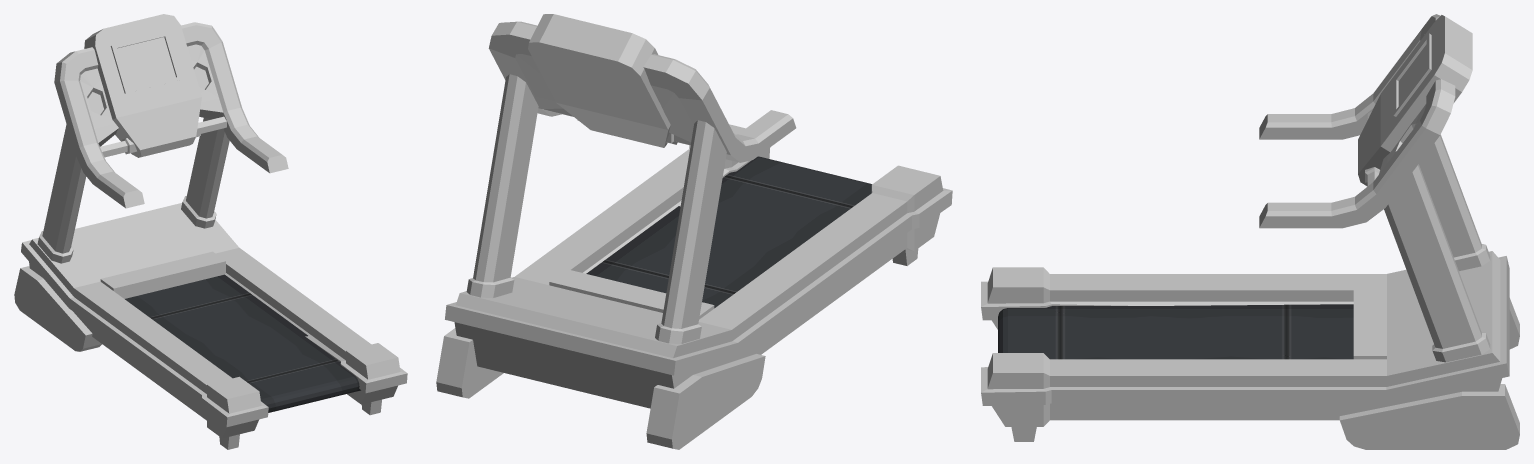
The model's file is SM_Prop_Gym_Tredmill_01.fbx.
3 views of the same model, side by side, from view 1: azimuth 30°, elevation 25°; view 2: azimuth 150°, elevation 25°; view 3: azimuth 270°, elevation 25° (orthographic). The views are drawn at different scales.
Parts seen in each view (by area): view 1: SM_Prop_Gym_Tredmill_01; view 2: SM_Prop_Gym_Tredmill_01; view 3: SM_Prop_Gym_Tredmill_01.
Part boxes in pixels (x1,y1,x2,y2): SM_Prop_Gym_Tredmill_01: [14, 14, 407, 449]; SM_Prop_Gym_Tredmill_01: [436, 14, 952, 449]; SM_Prop_Gym_Tredmill_01: [981, 14, 1519, 449].
Size of the model in its own units: 124 by 187 by 254.
